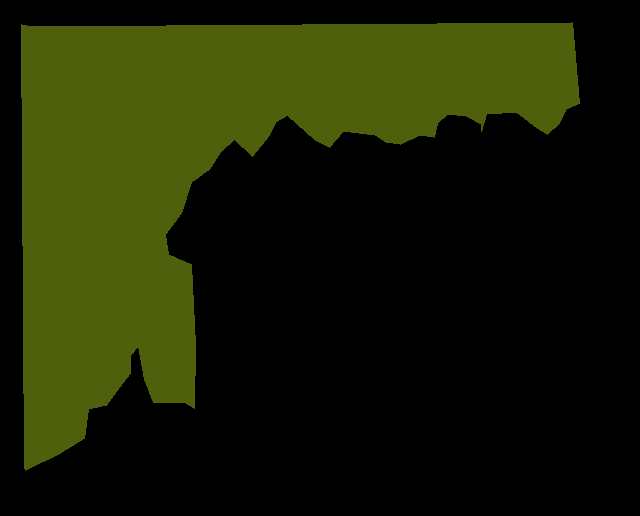Train: (21, 22, 579, 470)
